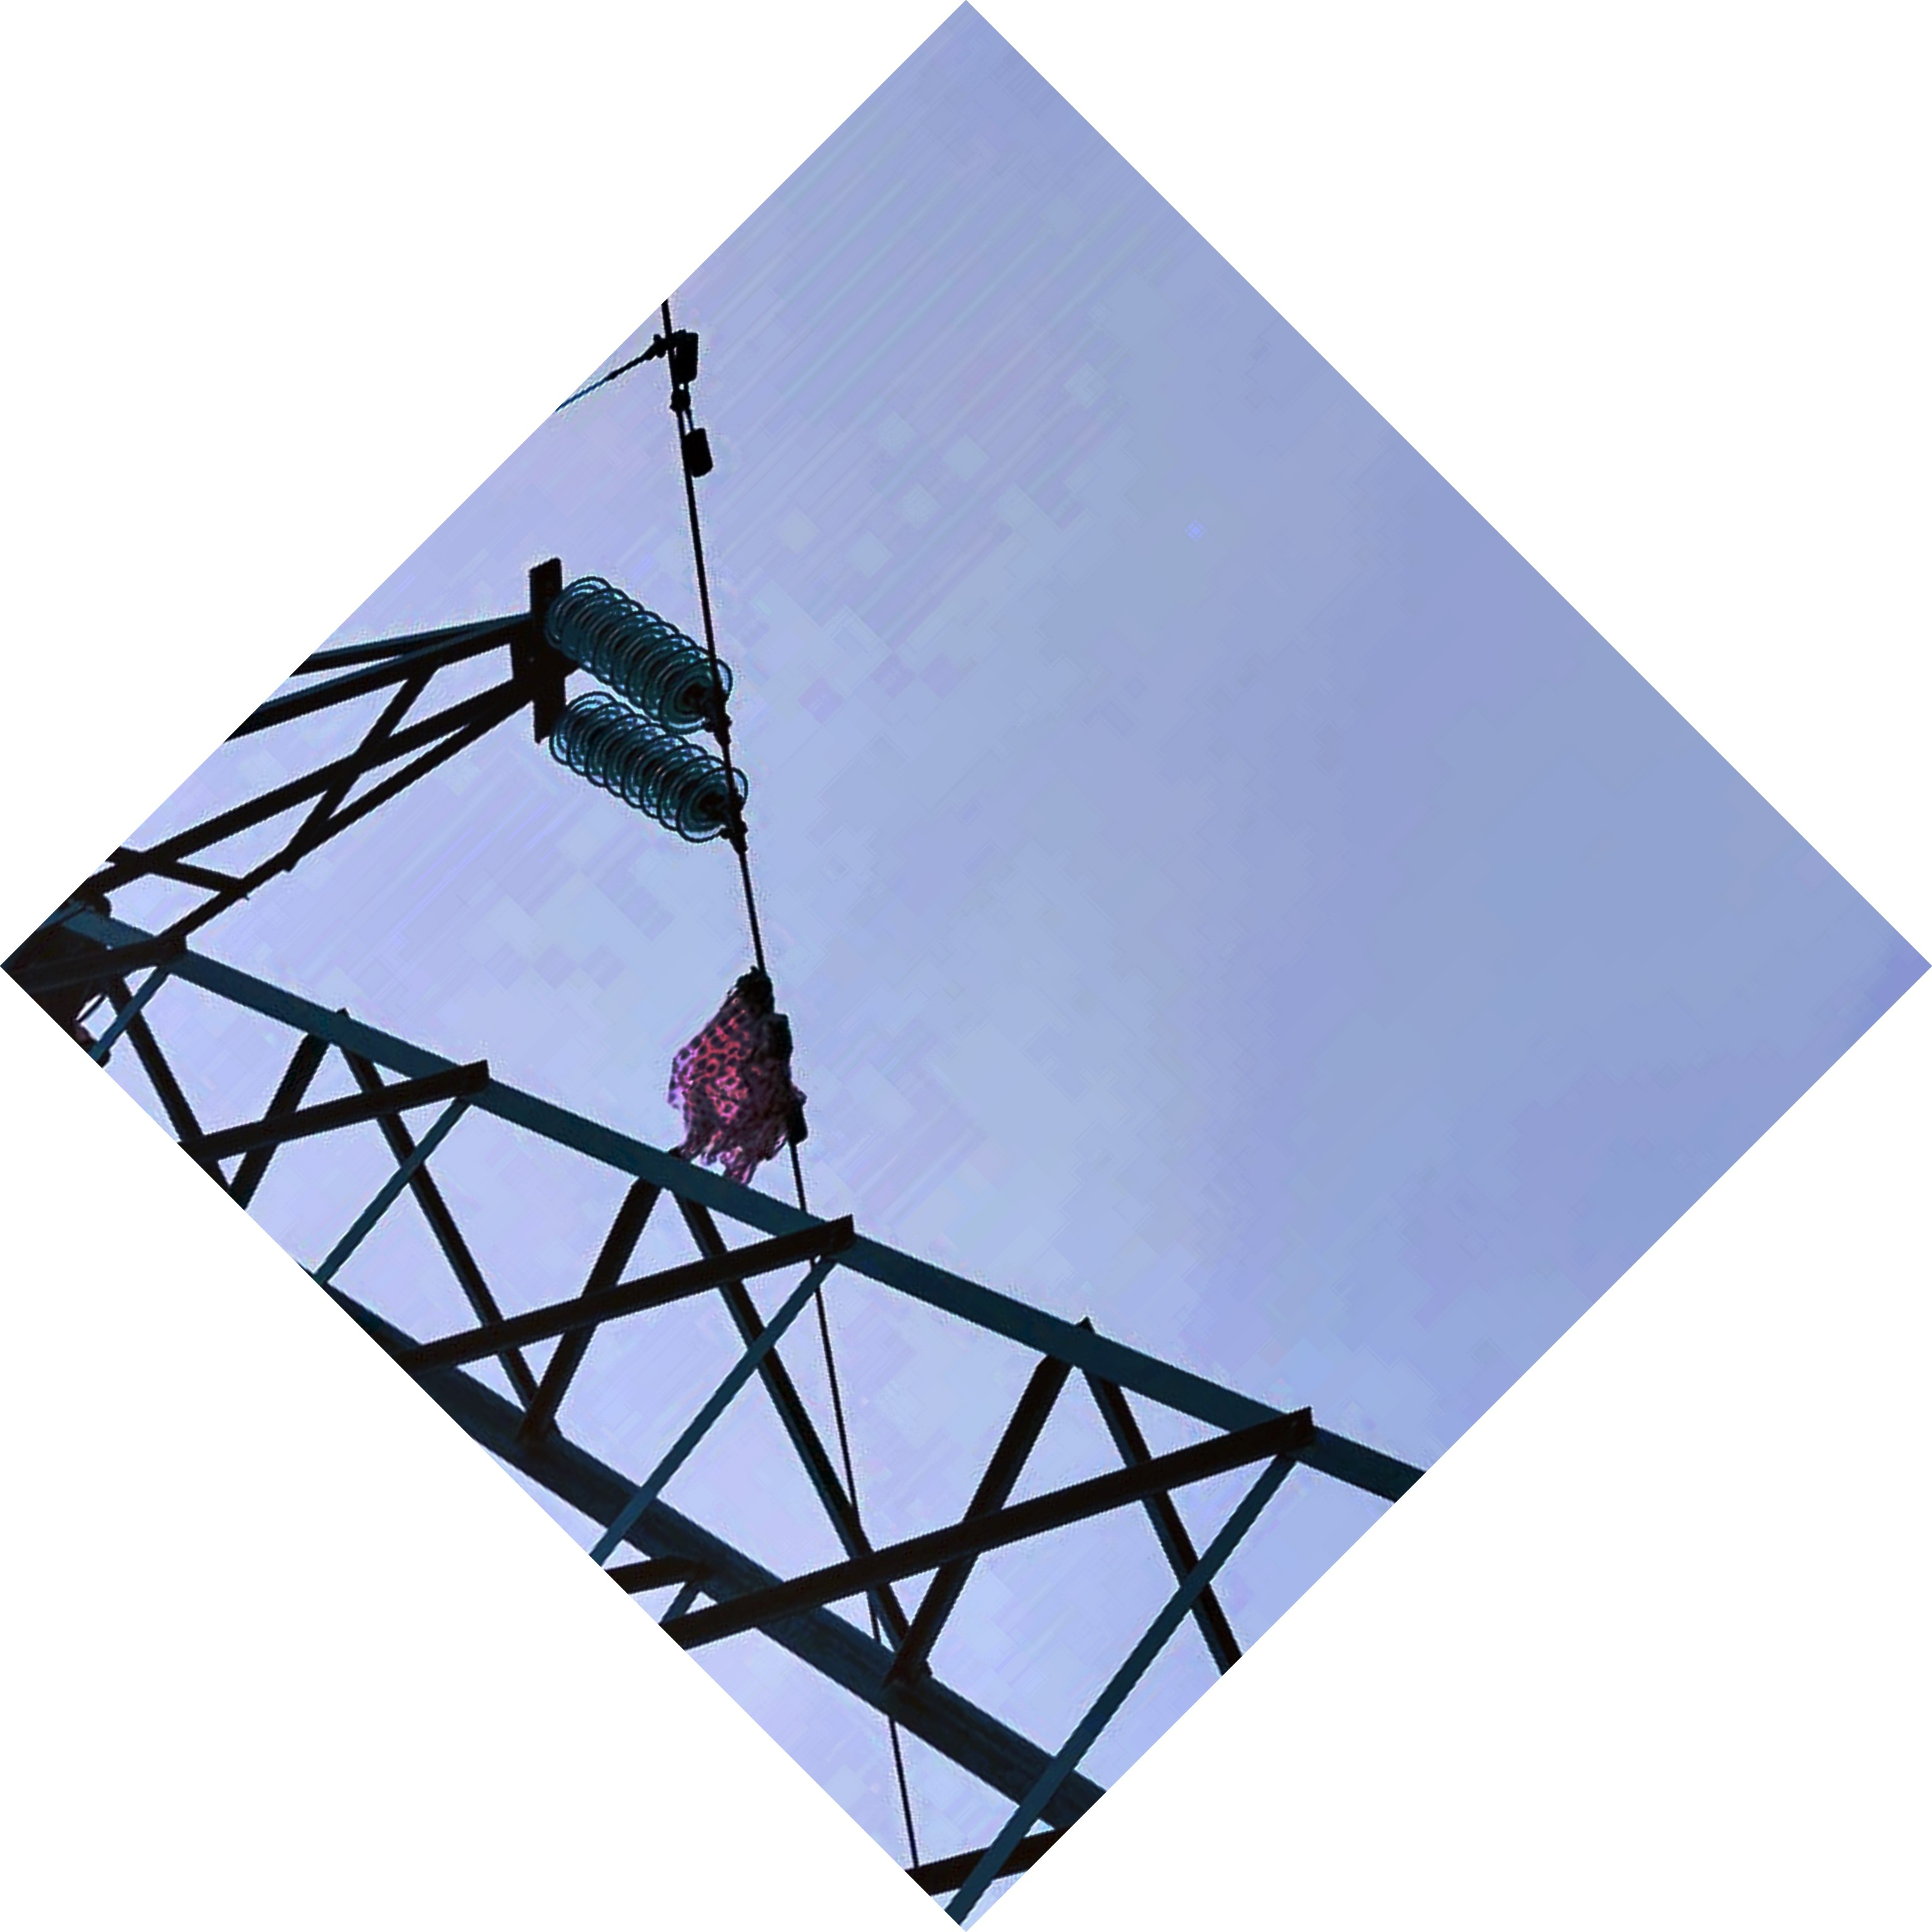wire foreign body: (635, 954, 837, 1200)
